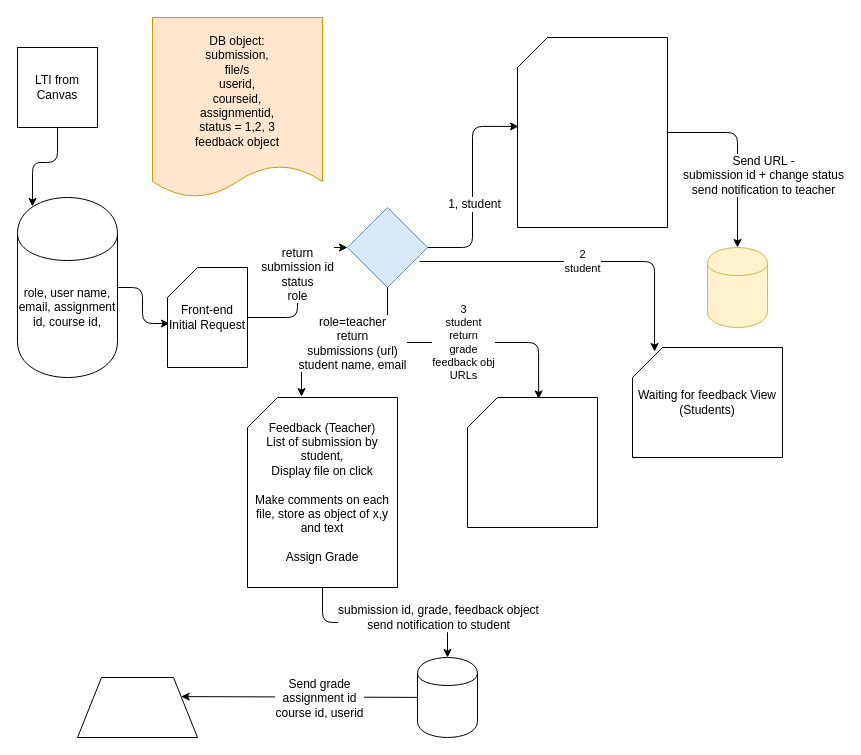
This 861x755 diagram has some shape labels left out. The shapes that lost their labels are listed below. From the top down, each one's centre as x and y in pixels, then its label:
point (592, 132): Submission View (Students) Send file/s to S3 and return URL
point (532, 462): Feedback View (Students) Display file/s with markup on top
point (137, 707): Canvas API
